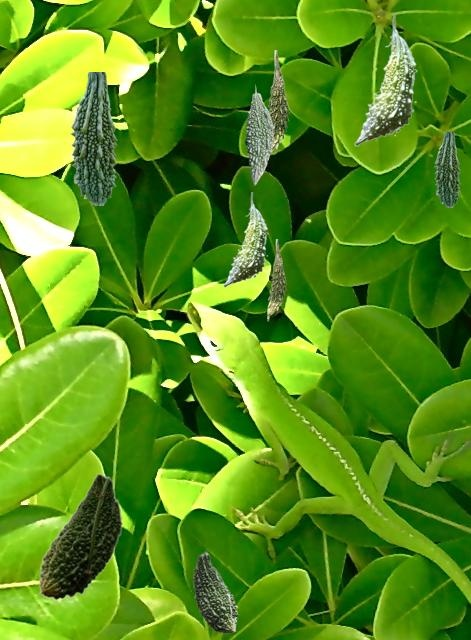ampalaya: (38, 473, 122, 599), (354, 13, 416, 145), (70, 72, 116, 204), (223, 192, 267, 286), (193, 551, 237, 632), (245, 84, 273, 184), (268, 50, 288, 153), (434, 132, 459, 206), (267, 239, 285, 320)
